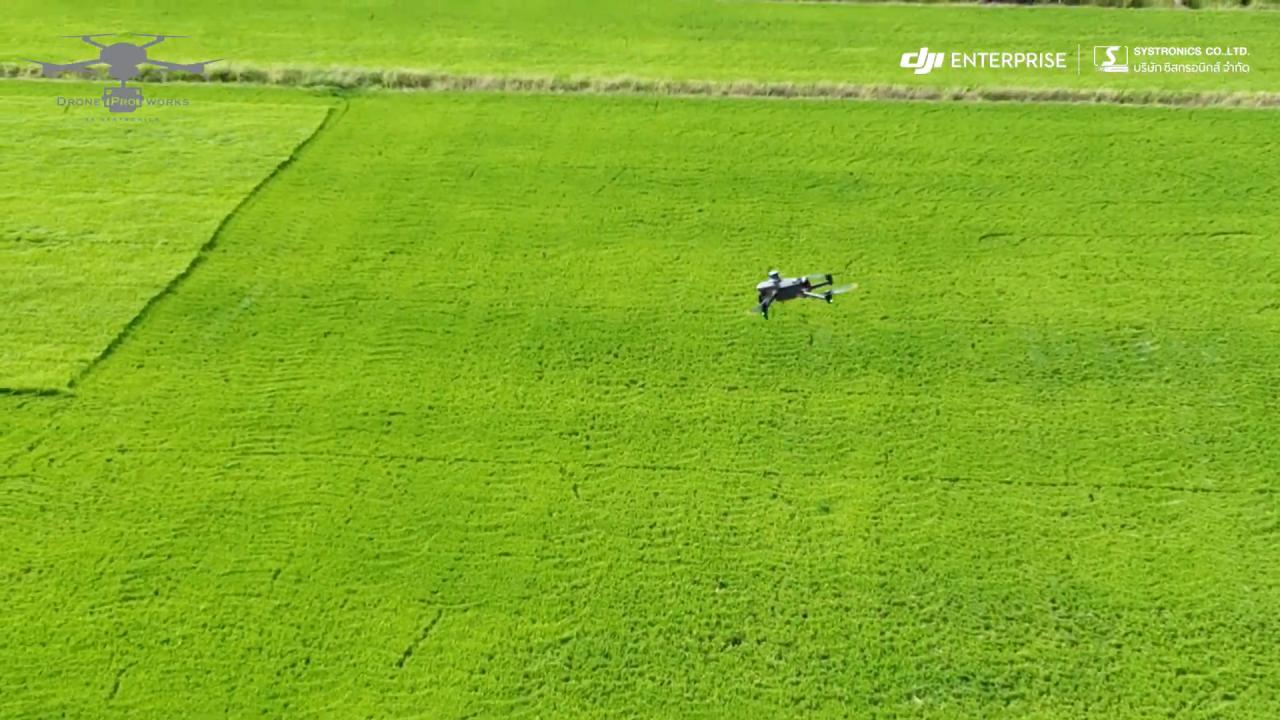Drone: (743, 261, 861, 332)
